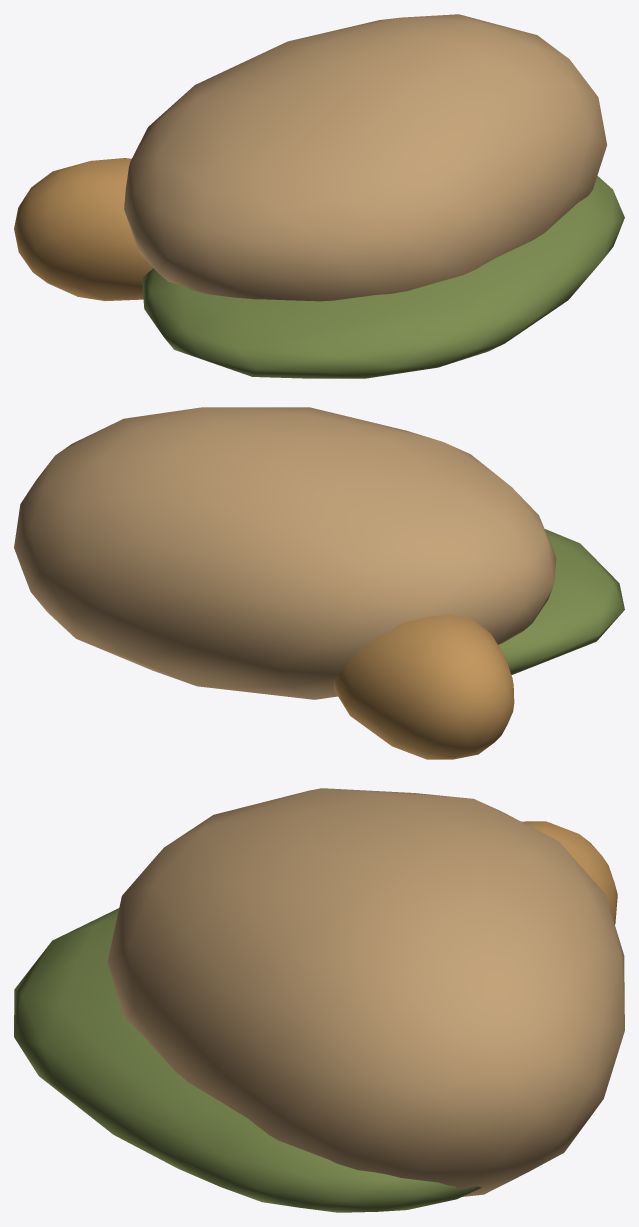
Rendered from painted_pebbles.glb.
3 renders of one model, top to bottom at view 1: azimuth 30°, elevation 25°; view 2: azimuth 150°, elevation 25°; view 3: azimuth 270°, elevation 25°, orthographic. The views are drawn at different scales.
Visible parts, largest first — view 1: SM_Painted_Pebbles; view 2: SM_Painted_Pebbles; view 3: SM_Painted_Pebbles.
Boxes of the visible parts, <box> form: SM_Painted_Pebbles: <box>14,14,624,378</box>; SM_Painted_Pebbles: <box>14,407,624,759</box>; SM_Painted_Pebbles: <box>14,788,624,1212</box>.
Bounding box in the file's own units: 1.03 × 0.4514 × 0.8353.
